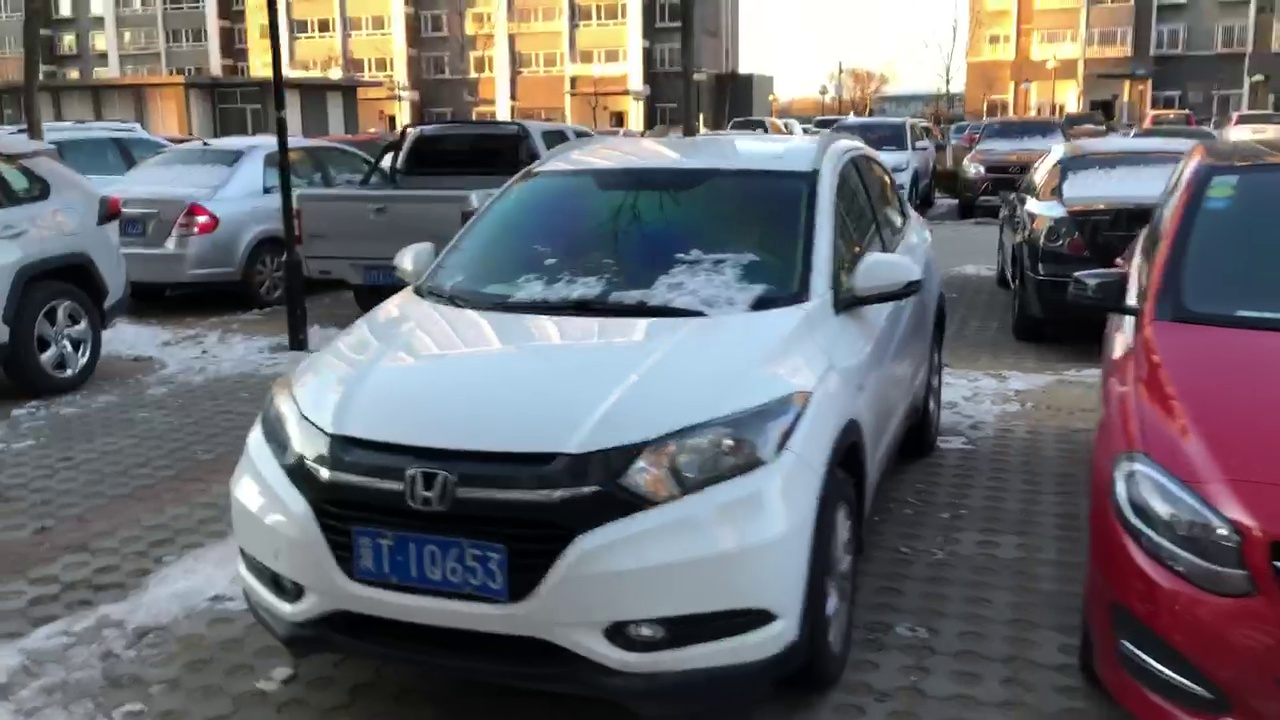plate: (352, 536, 516, 595)
